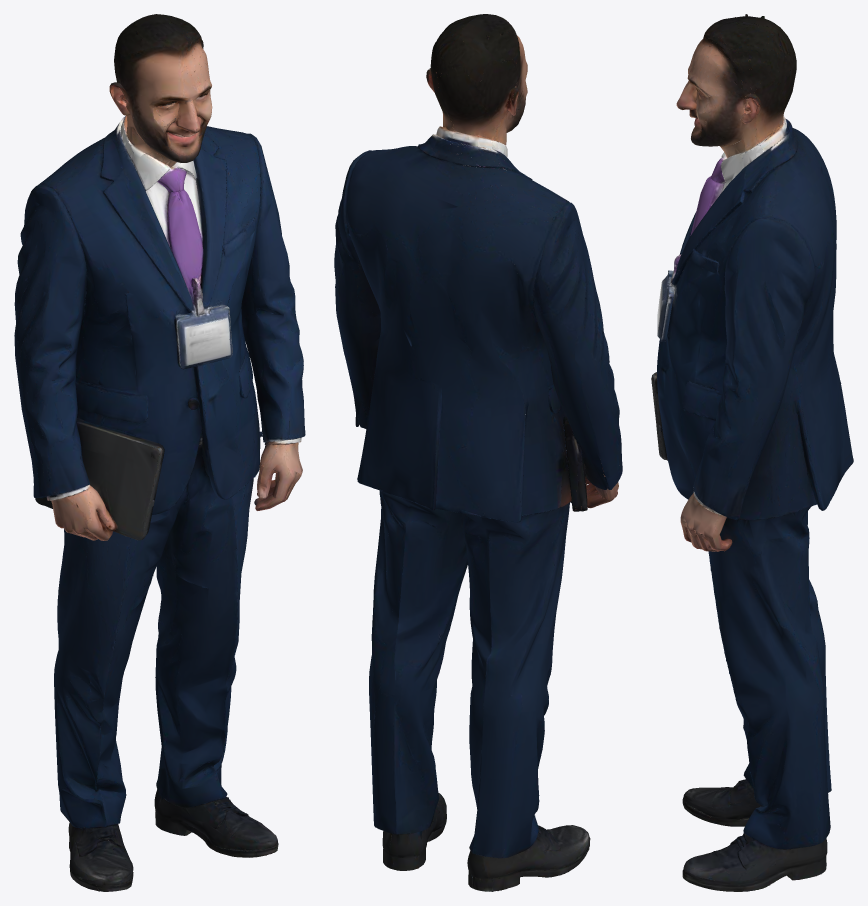
The model's file is advisor.glb.
3 renders of one model, left to right at view 1: azimuth 30°, elevation 25°; view 2: azimuth 150°, elevation 25°; view 3: azimuth 270°, elevation 25°, orthographic.
Parts seen in each view (by area): view 1: node_0; view 2: node_0; view 3: node_0.
Part boxes in pixels (box(x1,y1,x2,y2)): node_0: box(14, 14, 305, 891); node_0: box(334, 14, 622, 891); node_0: box(651, 14, 853, 891).
Size of the model in its own units: 0.3927 by 1.17 by 0.2592.
Materials: 1 (1 with a texture image).
